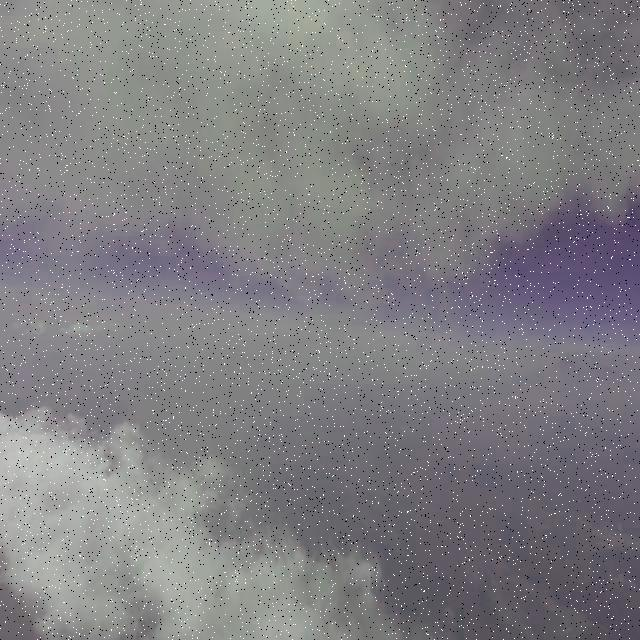Plume: (0, 0, 617, 320)
